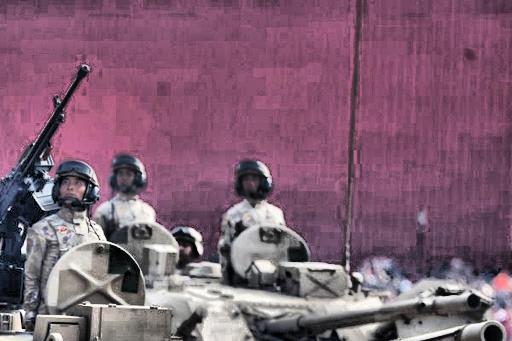tanks: (129, 225, 493, 341), (1, 243, 179, 341), (415, 325, 499, 341)
